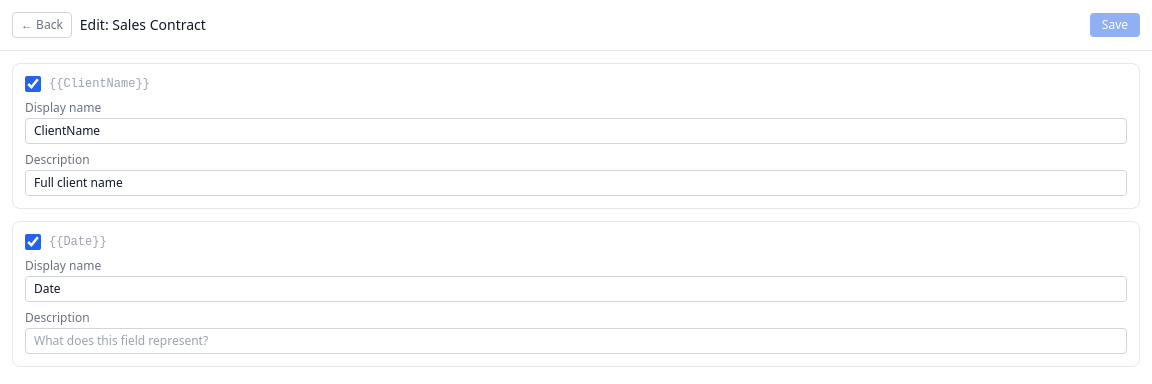
EditTemplate › Save button re-disables when change is reverted
Replace the text in the 1st field showing "ClientName" with "Client Name" at {"x": 576, "y": 131}, box [25,118,1127,144]
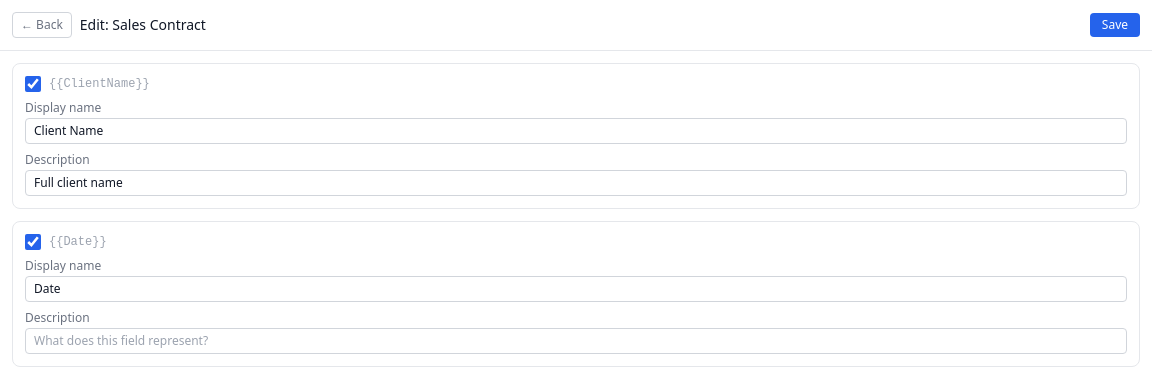
Replace the text in the 1st field showing "Client Name" with "ClientName" at {"x": 576, "y": 131}, box [25,118,1127,144]
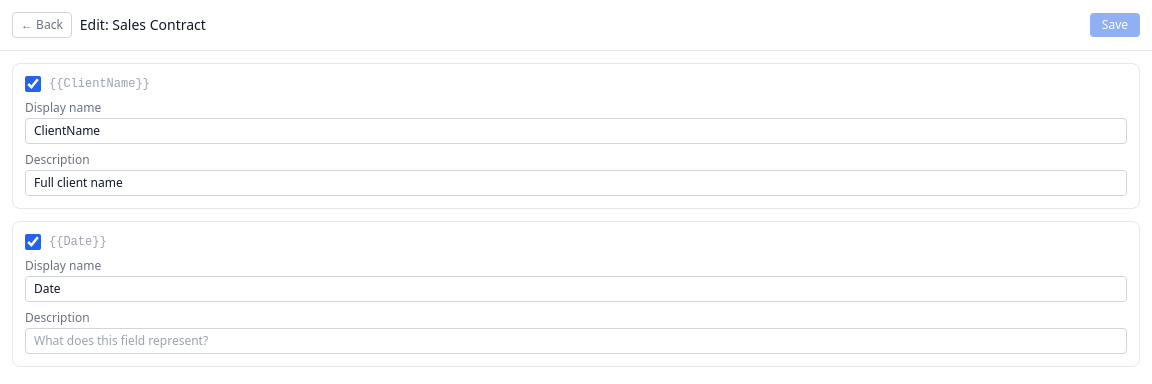
Now the button "Save" is disabled, box [1090,13,1140,37]
